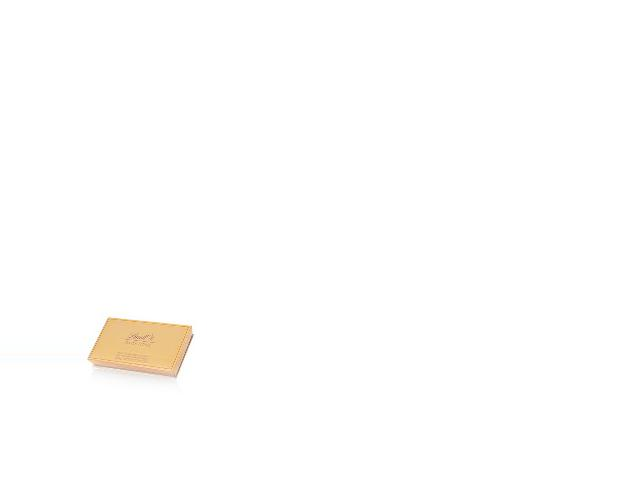chocolate: (88, 314, 195, 386)
